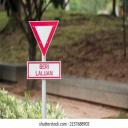preferencia: (27, 16, 61, 58)
